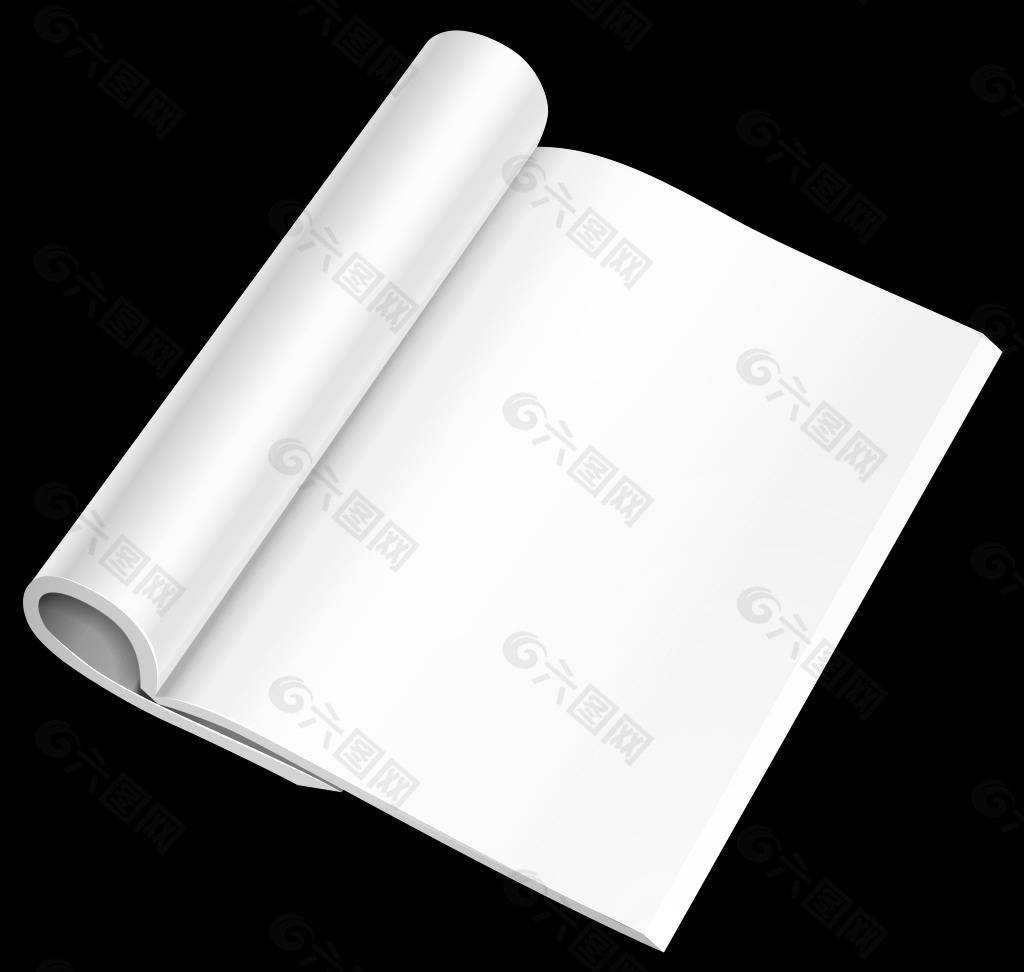book: (21, 29, 1005, 948)
